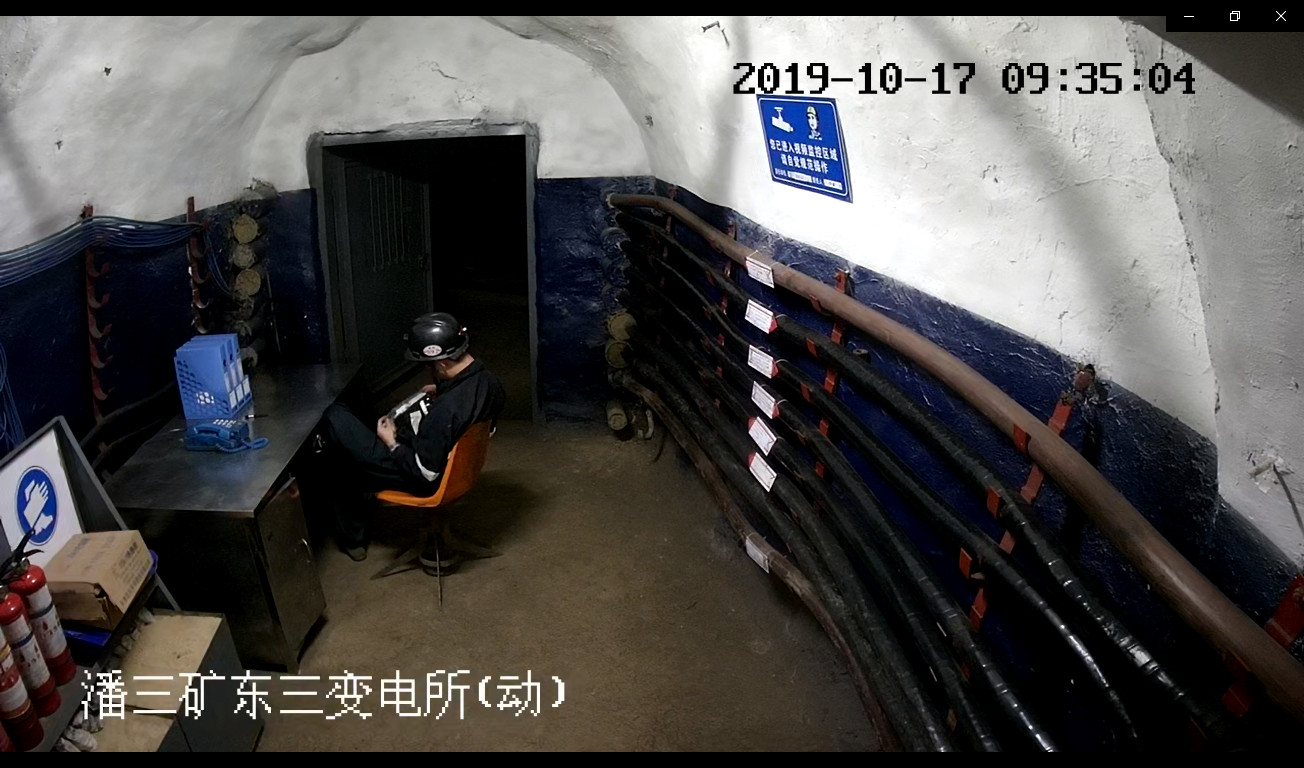helmet: (403, 313, 469, 363)
